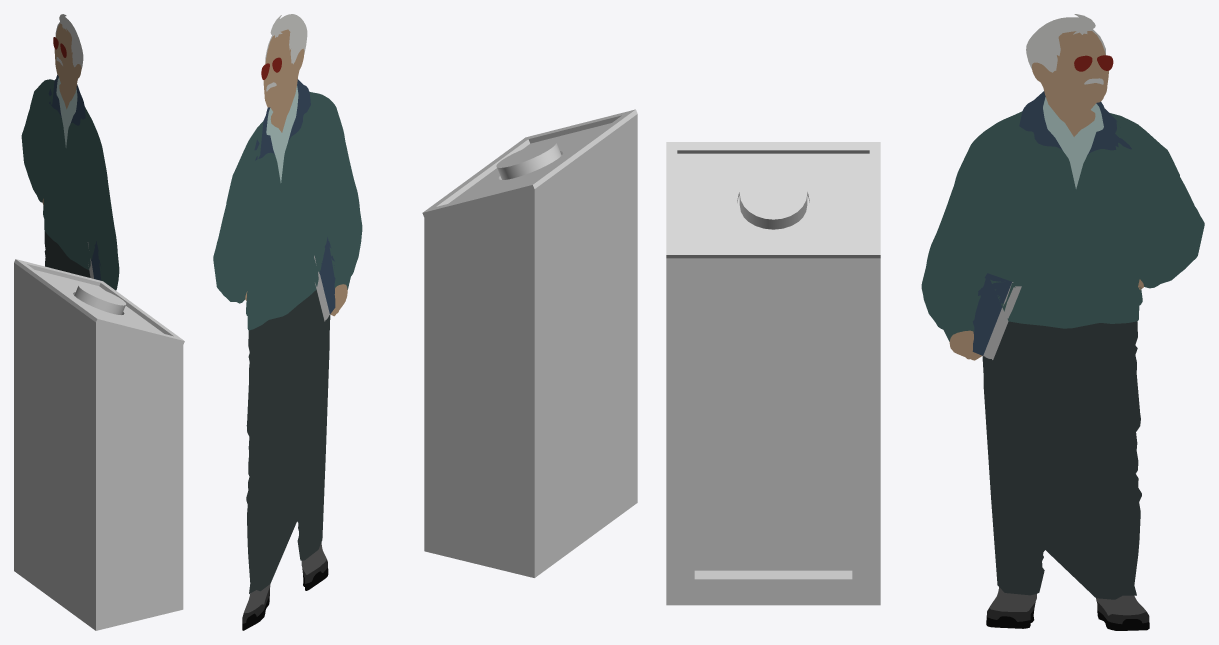
The model's file is button.obj.
The picture shows the model from 3 angles, left to right: view 1: azimuth 30°, elevation 25°; view 2: azimuth 150°, elevation 25°; view 3: azimuth 270°, elevation 25°; orthographic projection. The views are drawn at different scales.
Parts seen in each view (by area): view 1: Mesh2 Model, Mesh1 Steve1 Model; view 2: Mesh2 Model, Mesh1 Steve1 Model; view 3: Mesh2 Model, Mesh1 Steve1 Model.
Part boxes in pixels (bbox=[...]): Mesh2 Model: bbox=[14, 259, 184, 630]; Mesh1 Steve1 Model: bbox=[21, 14, 119, 290]; Mesh2 Model: bbox=[422, 109, 637, 577]; Mesh1 Steve1 Model: bbox=[213, 14, 362, 630]; Mesh2 Model: bbox=[666, 142, 880, 605]; Mesh1 Steve1 Model: bbox=[921, 14, 1204, 630].
Bounding box in the file's own units: 19.48 × 66.71 × 52.82.
